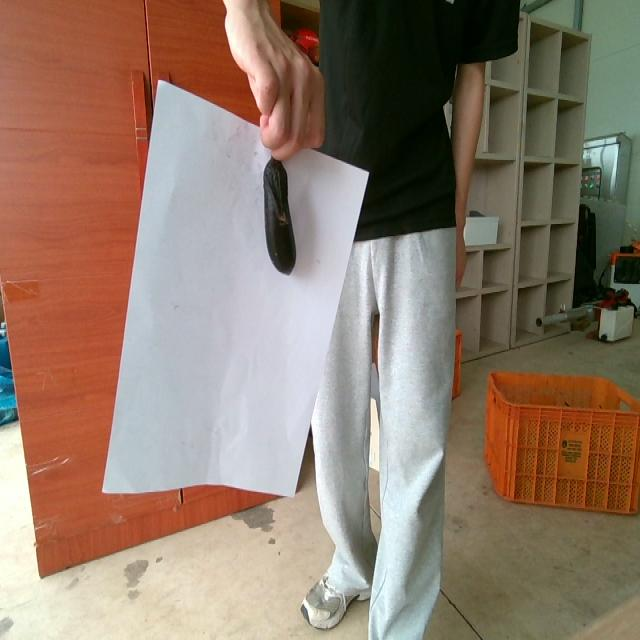Egg plant: (263, 157, 295, 273)
